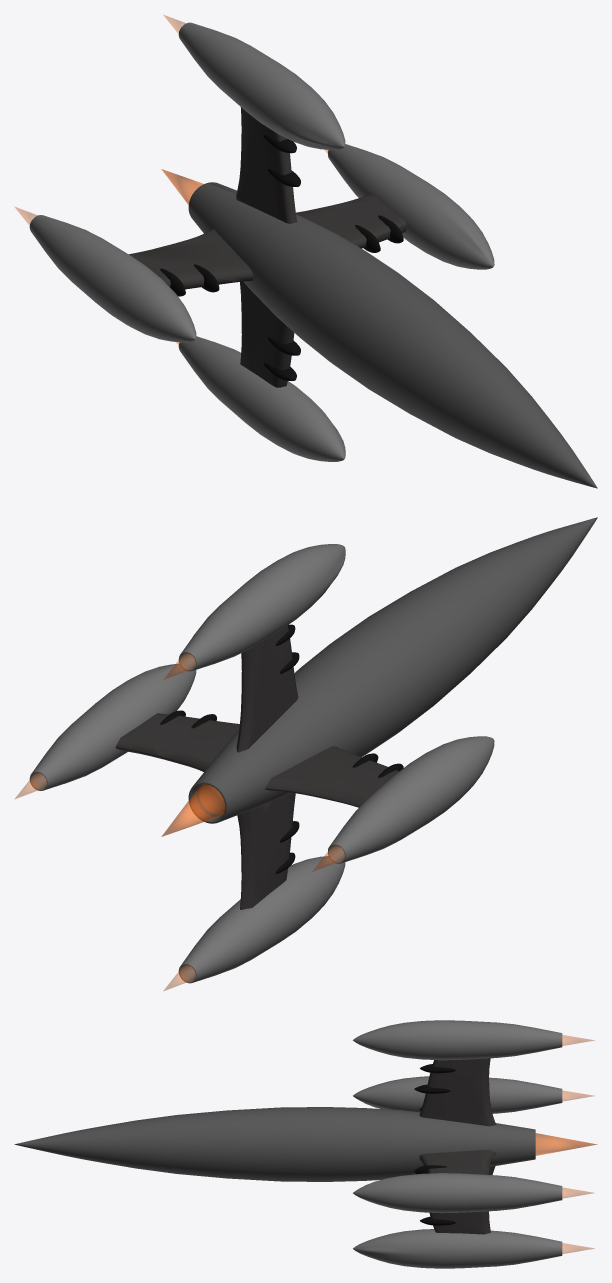
File: rocket-v3.glb
3 views of the same model, one above another, from view 1: azimuth 30°, elevation 25°; view 2: azimuth 150°, elevation 25°; view 3: azimuth 270°, elevation 25° (orthographic). The views are drawn at different scales.
Parts seen in each view (by area): view 1: Body, Turbines, Fins, Fin pointies, Flames; view 2: Body, Turbines, Fins, Flames, Fin pointies; view 3: Body, Turbines, Fins, Flames, Fin pointies.
Boxes of the visible parts, x1,y1,x2,y2 form: Body: (188, 182, 597, 488); Turbines: (29, 22, 494, 461); Fins: (129, 107, 406, 387); Fin pointies: (160, 135, 403, 380); Flames: (15, 15, 328, 345); Body: (188, 517, 597, 823); Turbines: (29, 544, 494, 983); Fins: (115, 625, 398, 909); Flames: (15, 653, 344, 990); Fin pointies: (160, 624, 403, 873); Body: (14, 1107, 535, 1181); Turbines: (353, 1020, 562, 1268); Fins: (419, 1058, 496, 1234); Flames: (535, 1035, 597, 1253); Fin pointies: (414, 1064, 455, 1225).
Size of the model in its own units: 7.03 by 7.03 by 15.18.
